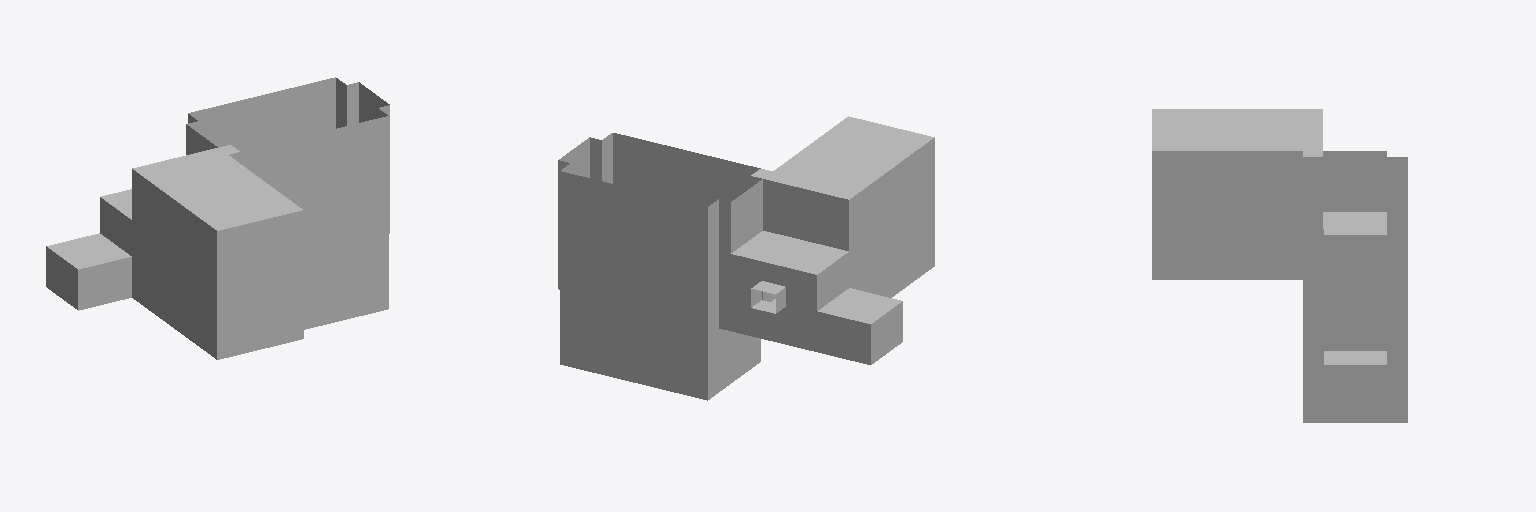
The model's file is Level.obj.
3 views of the same model, side by side, from view 1: azimuth 30°, elevation 25°; view 2: azimuth 150°, elevation 25°; view 3: azimuth 270°, elevation 25° (orthographic).
Visible parts, largest first — view 1: Plane; view 2: Plane; view 3: Plane.
Part boxes in pixels (left/top/right/bottom): Plane: left=46, top=77, right=389, bottom=359; Plane: left=558, top=116, right=934, bottom=400; Plane: left=1152, top=109, right=1407, bottom=422.
Size of the model in its own units: 50.7 by 30 by 36.